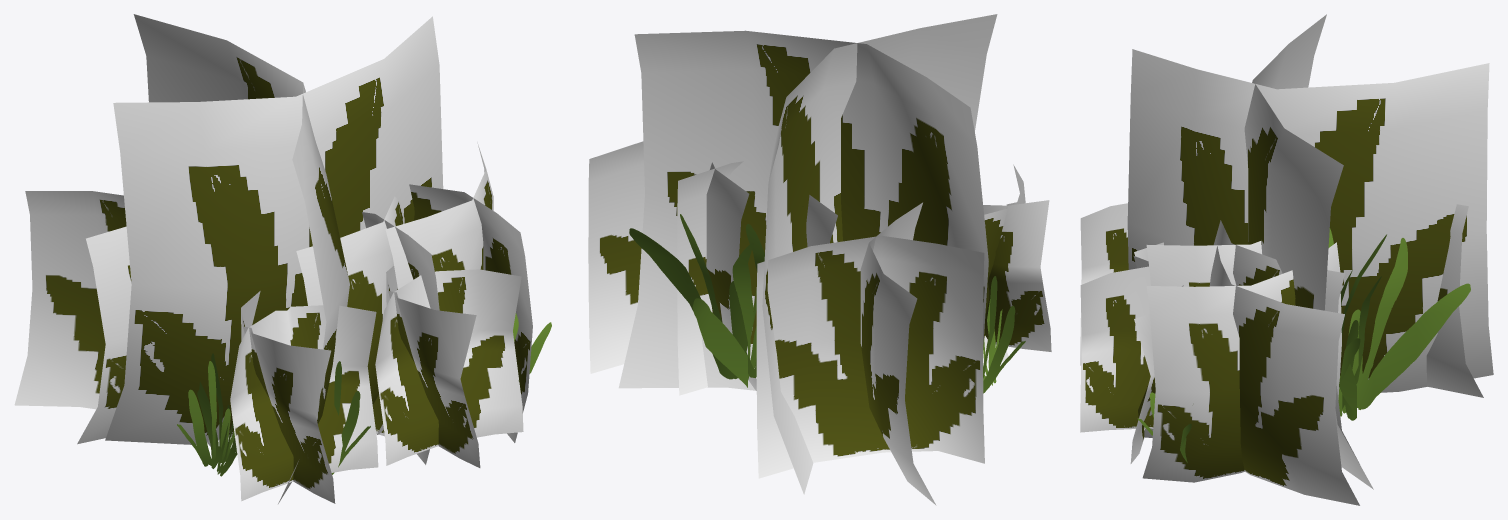
File: Grass_2.fbx
The picture shows the model from 3 angles, left to right: view 1: azimuth 30°, elevation 25°; view 2: azimuth 150°, elevation 25°; view 3: azimuth 270°, elevation 25°; orthographic projection. The views are drawn at different scales.
Parts seen in each view (by area): view 1: Grass_Group_2; view 2: Grass_Group_2; view 3: Grass_Group_2.
Part boxes in pixels (bbox=[...]): Grass_Group_2: bbox=[14, 14, 551, 503]; Grass_Group_2: bbox=[588, 14, 1051, 505]; Grass_Group_2: bbox=[1080, 14, 1493, 505].
Size of the model in its own units: 1.84 by 1.47 by 1.69.
